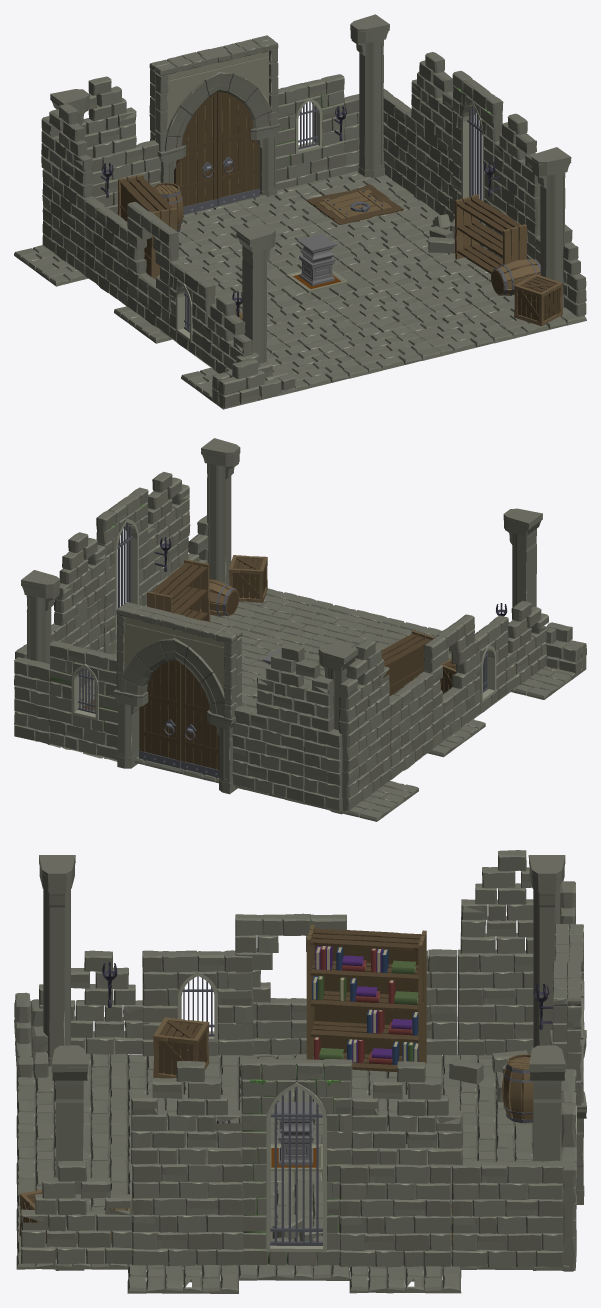
Rendered from room.glb.
3 renders of one model, top to bottom at view 1: azimuth 30°, elevation 25°; view 2: azimuth 150°, elevation 25°; view 3: azimuth 270°, elevation 25°, orthographic. The views are drawn at different scales.
Parts seen in each view (by area): view 1: door-arch-right, door-arch-left, window-right, window-back, pilar-back-right, door-right, shelves, door-left, wall-4, pilar-front-right, wall-hole, wall-6 (+46 smaller); view 2: door-arch-right, door-arch-left, wall-8, window-right, window-back, wall-9, door-right, wall-5, pilar-front-right, wall-4, wall-hole, wall-14 (+28 smaller); view 3: window-right, bookcase, wall-12, wall-13, wall-15, window-left, wall-16, wall-14, wall-17, wall-5, wall-6, wall-2 (+34 smaller).
Part boxes in pixels (x1,y1,x2,y2): door-arch-right: (208, 35, 280, 196); door-arch-left: (149, 49, 220, 183); window-right: (452, 70, 503, 253); window-back: (275, 74, 344, 169); pilar-back-right: (350, 14, 389, 178); door-right: (217, 91, 259, 205); shelves: (454, 194, 526, 273); door-left: (174, 92, 217, 214); wall-4: (85, 198, 127, 306); pilar-front-right: (531, 147, 571, 307); wall-hole: (127, 201, 178, 310); wall-6: (41, 103, 92, 197); door-arch-right: (113, 602, 185, 768); door-arch-left: (173, 616, 242, 794); wall-8: (232, 706, 304, 801); window-right: (96, 487, 148, 654); window-back: (49, 641, 117, 735); wall-9: (256, 643, 334, 731); door-right: (139, 660, 181, 768); wall-5: (342, 704, 390, 811); pilar-front-right: (201, 438, 240, 584); wall-4: (389, 671, 432, 779); wall-hole: (423, 614, 474, 722); wall-14: (54, 532, 105, 625); window-right: (241, 1058, 352, 1266); bookcase: (306, 924, 426, 1071); wall-12: (451, 1160, 563, 1267); wall-13: (339, 1161, 451, 1267); wall-15: (132, 1159, 243, 1266); window-left: (142, 950, 253, 1056); wall-16: (131, 1061, 242, 1164); wall-14: (351, 1061, 462, 1165); wall-17: (21, 1160, 132, 1264); wall-5: (458, 949, 533, 1055); wall-6: (460, 850, 533, 953); wall-2: (39, 950, 149, 1054).
Bounding box in the file's own units: 10.94 × 4.18 × 10.24.
Materials: 21 (1 with a texture image).
